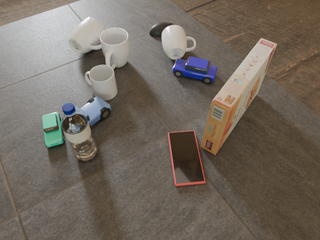bottle: (61, 103, 97, 161)
box: (201, 38, 277, 155)
cup: (69, 17, 105, 54), (100, 28, 130, 69), (161, 25, 196, 60), (85, 65, 117, 101)
mouse: (149, 22, 175, 37)
phone: (168, 131, 205, 186)
toy_car: (173, 57, 217, 84), (75, 96, 111, 128), (42, 112, 65, 147)
